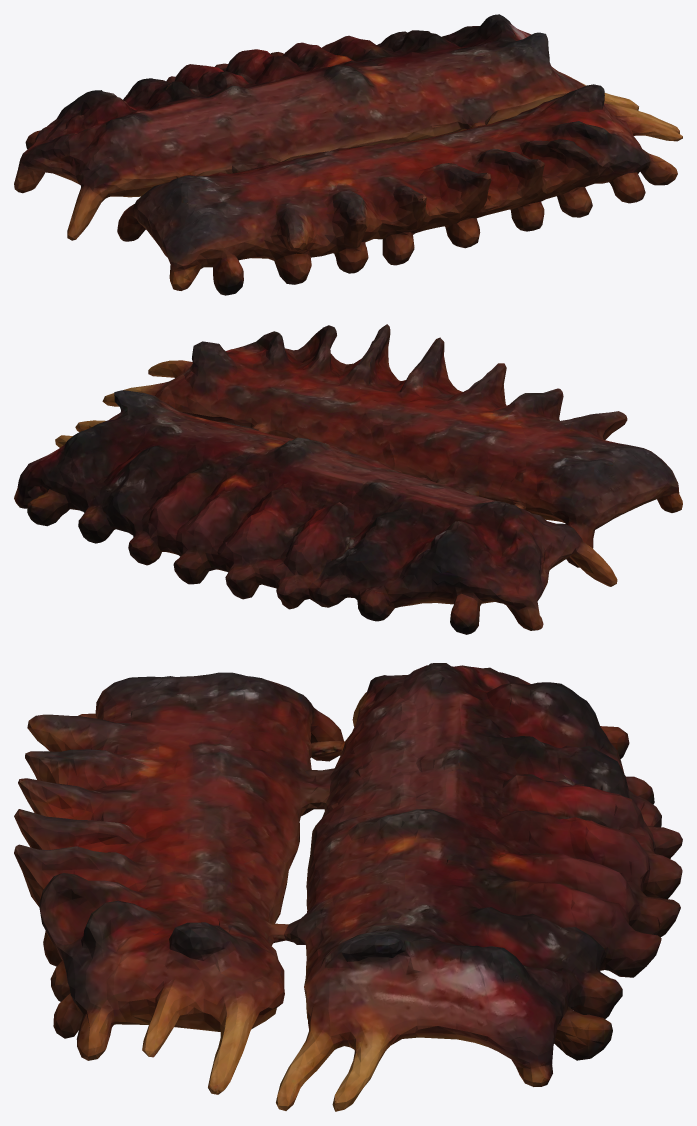
Rendered from p_ribs.glb.
The picture shows the model from 3 angles, top to bottom: view 1: azimuth 30°, elevation 25°; view 2: azimuth 150°, elevation 25°; view 3: azimuth 270°, elevation 25°; orthographic projection. The views are drawn at different scales.
Visible parts, largest first — view 1: geometry_0; view 2: geometry_0; view 3: geometry_0.
Part boxes in pixels (x1=…): geometry_0: x1=14, y1=14, x2=682, y2=295; geometry_0: x1=14, y1=324, x2=682, y2=634; geometry_0: x1=14, y1=663, x2=682, y2=1111.
Size of the model in its own units: 0.9963 by 0.1496 by 0.7332.
1 material, 1 textured.
